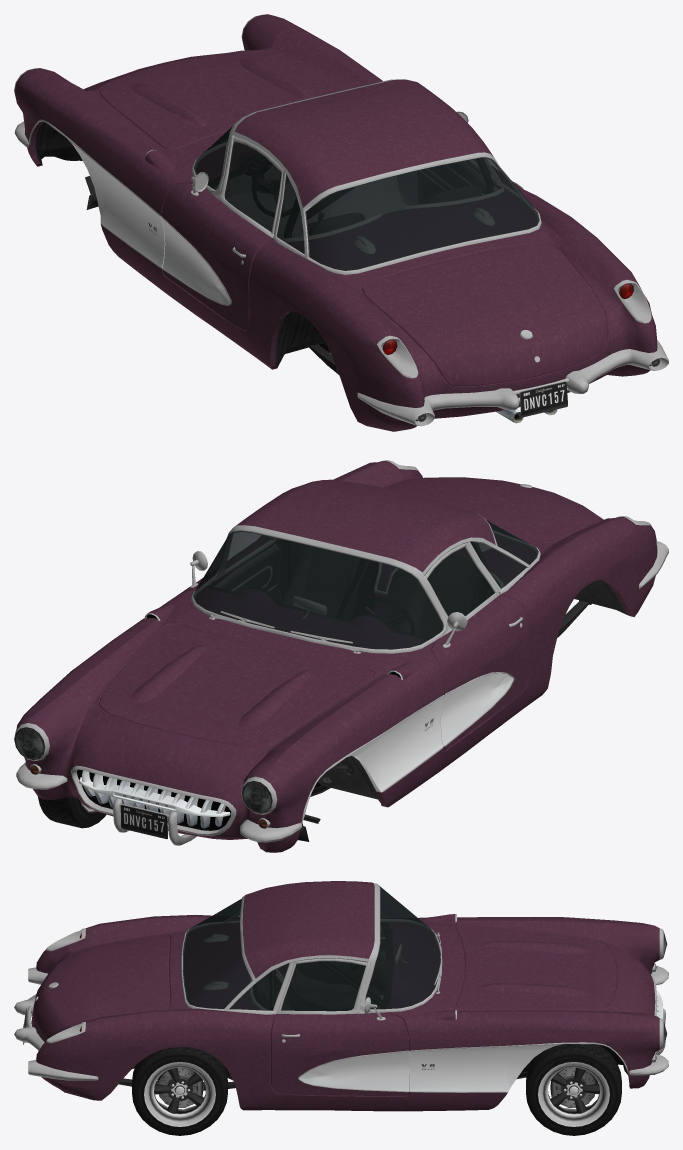
File: duntov.glb
3 views of the same model, one above another, from view 1: azimuth 30°, elevation 25°; view 2: azimuth 150°, elevation 25°; view 3: azimuth 270°, elevation 25° (orthographic). The views are drawn at different scales.
Parts seen in each view (by area): view 1: body; view 2: body, wheel_F; view 3: body, wheel_F, wheel_R.
Part boxes in pixels (left/top/right/bottom): body: left=14, top=14, right=668, bottom=431; body: left=14, top=460, right=668, bottom=852; wheel_F: left=38, top=797, right=106, bottom=828; body: left=14, top=881, right=668, bottom=1111; wheel_F: left=526, top=1044, right=621, bottom=1135; wheel_R: left=132, top=1047, right=227, bottom=1135.
Size of the model in its own units: 2.01 by 1.5 by 5.02.
12 materials, 12 textured.
